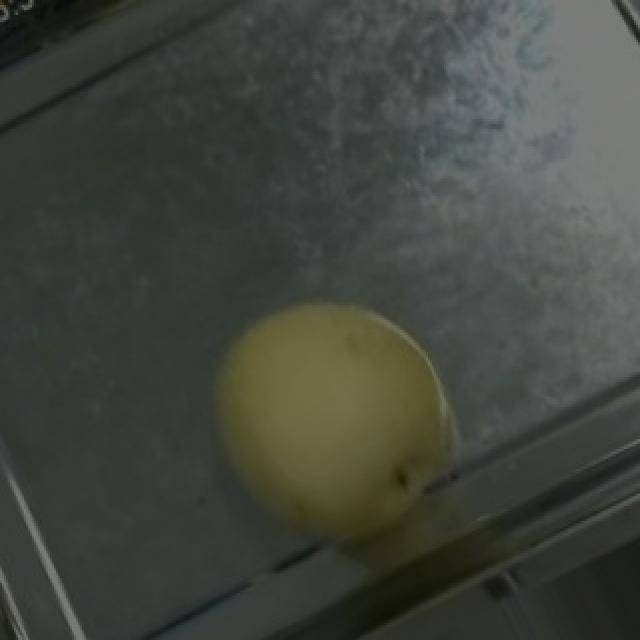Fruit: (166, 255, 496, 583)
